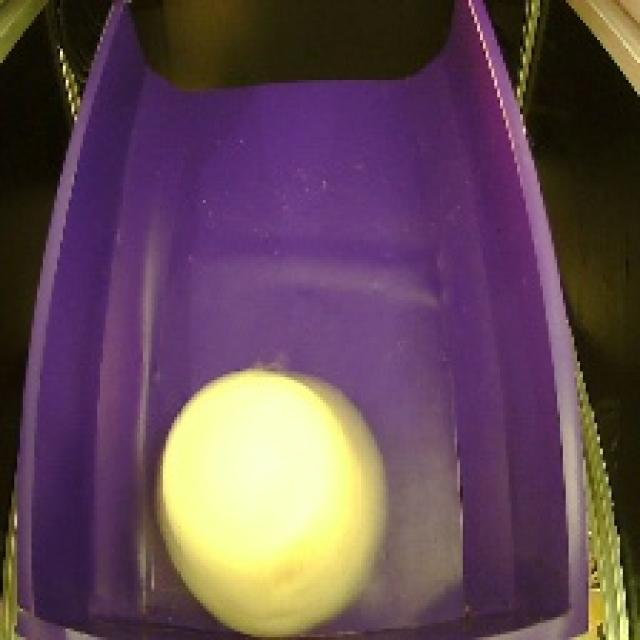white_radish: (149, 354, 399, 640)
